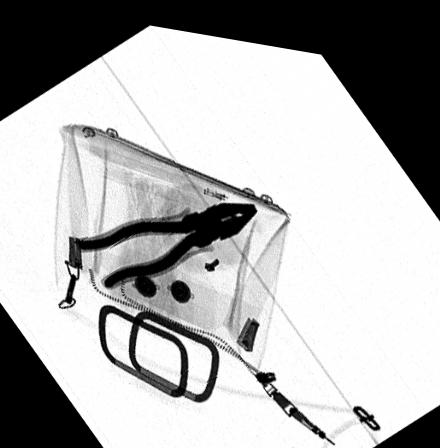Pliers: (76, 192, 259, 287)
